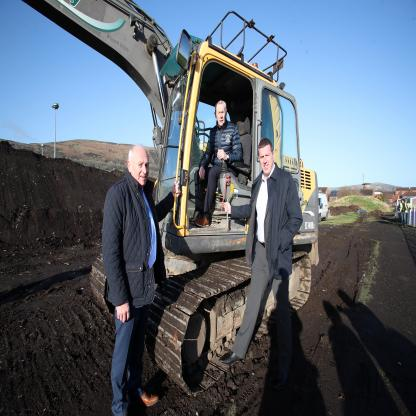person: (233, 127, 302, 393), (101, 134, 161, 416), (396, 192, 416, 232)
